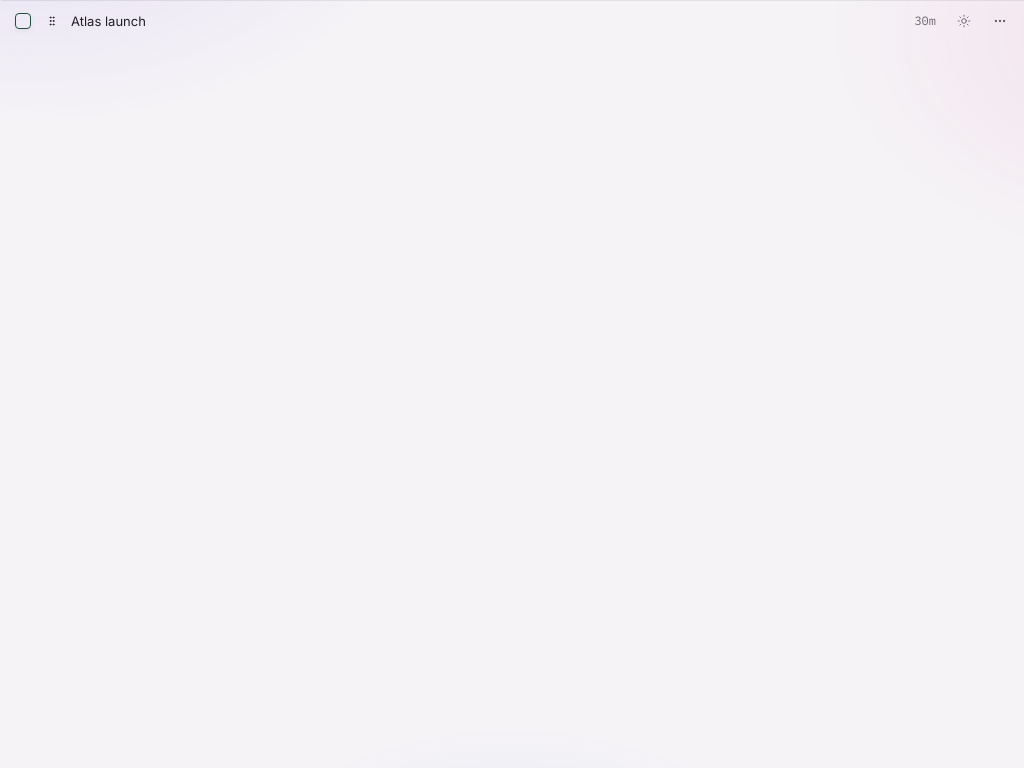
Test: TaskRow — pickers opened from ⋯ (chunk 77a) › (2) Set due date… stays open
Step 1. Press Enter in the button named "Actions for \"Atlas launch\"", box [988,9,1012,33]
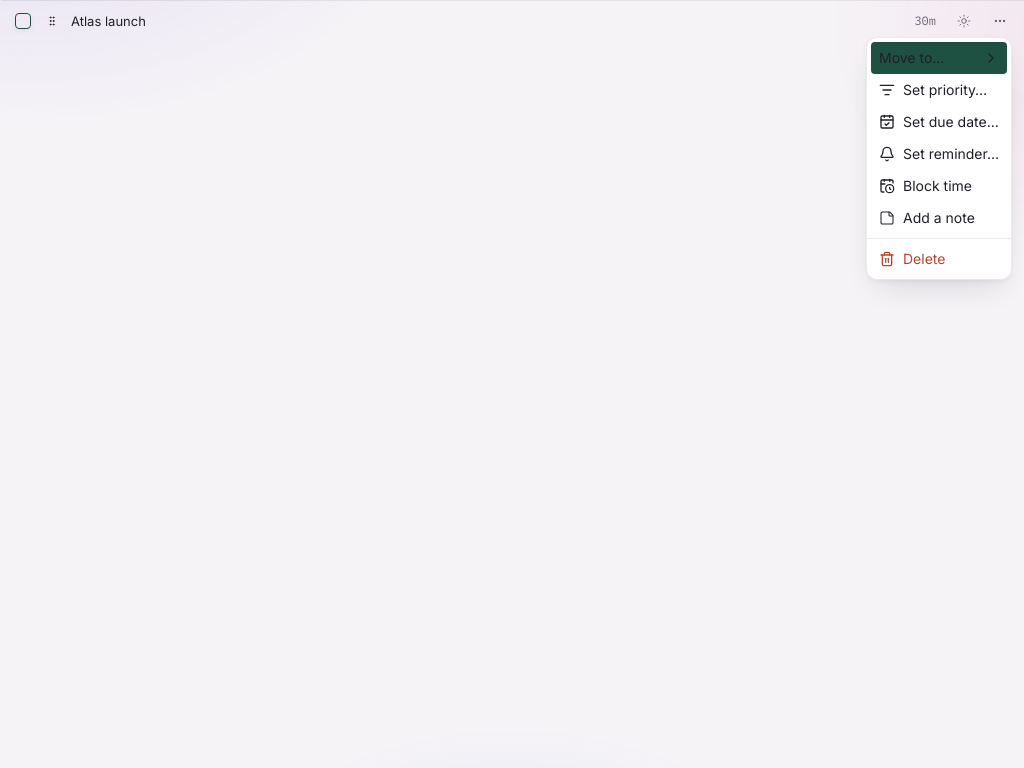
Step 2. Click the menu item "Set due date…" → [939, 122], box [879,113,999,130]
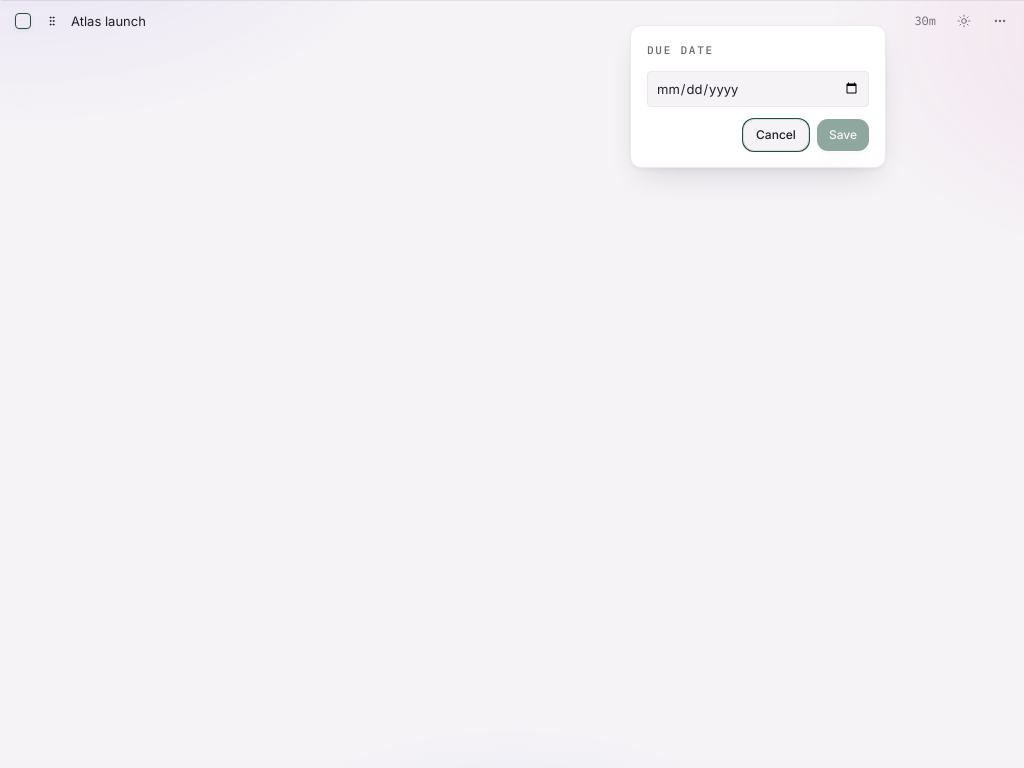
Check: the menu is gone
Check: the date field named "Due date" is shown, box [647,70,869,106]
